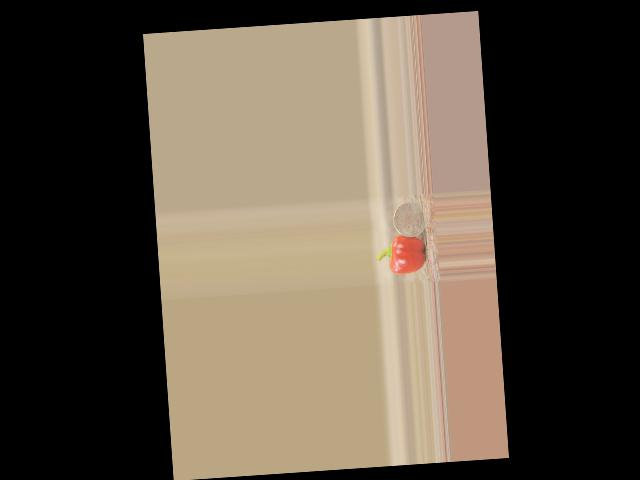bell_pepper: (375, 234, 428, 276)
